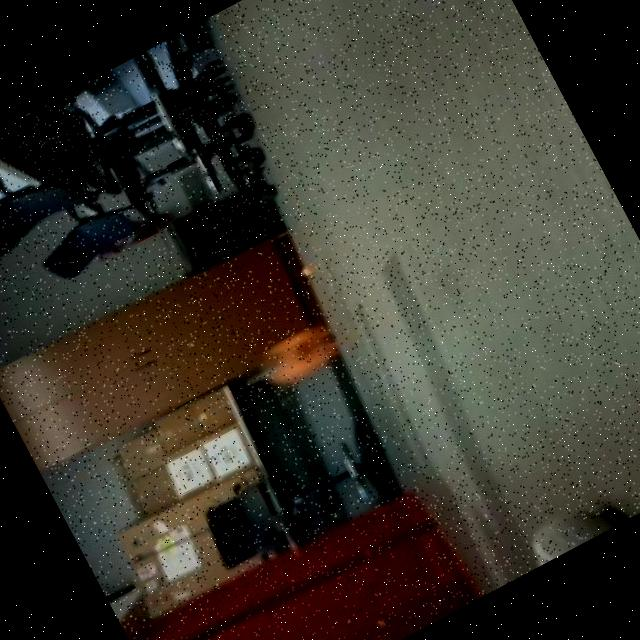ping-pong-ball: (241, 317, 338, 401)
